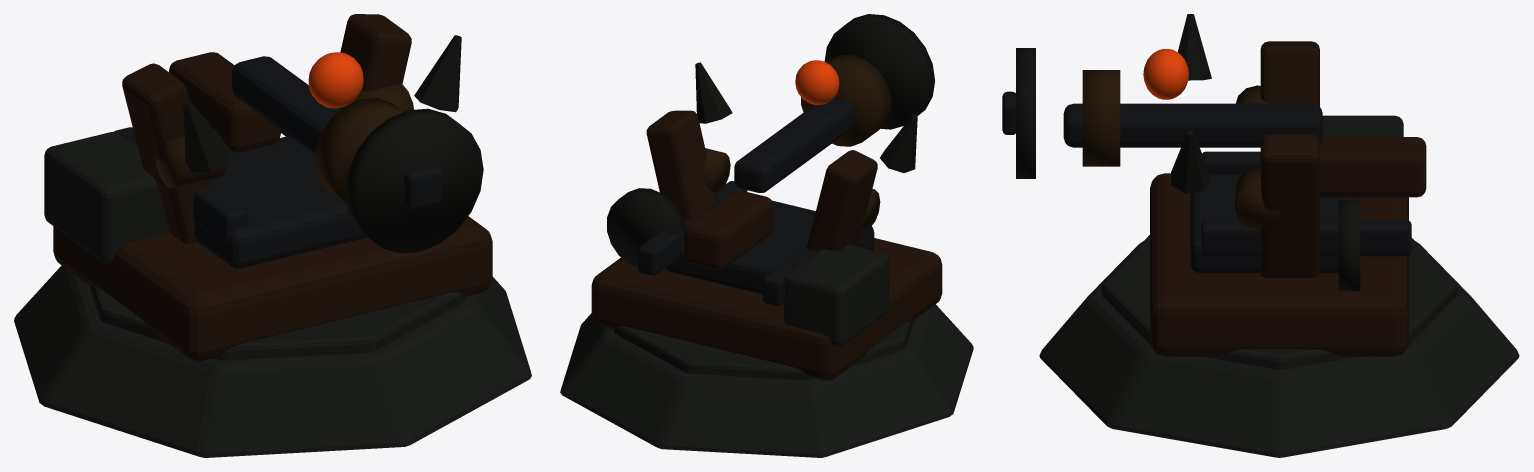
File: TowerBounce3.obj
3 renders of one model, left to right at view 1: azimuth 30°, elevation 25°; view 2: azimuth 150°, elevation 25°; view 3: azimuth 270°, elevation 25°, orthographic. The views are drawn at different scales.
Parts seen in each view (by area): view 1: cut_stone_socket_lower_course, heavy_oak_table, throwing_disc, iron_swivel, stone_ammunition_chest, cut_stone_socket_upper_course, oak_throwing_cheek, counterweight_beam, iron_throw_arm, bronze_sling_drum, oak_throwing_cheek.001, amber_trajectory_lens (+6 smaller); view 2: cut_stone_socket_lower_course, heavy_oak_table, stone_ammunition_chest, throwing_disc, iron_throw_arm, oak_throwing_cheek.001, cut_stone_socket_upper_course, counterweight_beam, iron_swivel, oak_throwing_cheek, reserve_disc, bronze_sling_drum (+7 smaller); view 3: cut_stone_socket_lower_course, heavy_oak_table, iron_throw_arm, oak_throwing_cheek.001, cut_stone_socket_upper_course, counterweight_beam, iron_stabiliser.001, iron_swivel, bronze_sling_drum, oak_throwing_cheek, throwing_disc, reserve_disc (+7 smaller).
Part boxes in pixels (x1,y1,x2,y2): cut_stone_socket_lower_course: [14, 265, 531, 457]; heavy_oak_table: [53, 216, 492, 360]; throwing_disc: [345, 108, 483, 253]; iron_swivel: [195, 136, 367, 268]; stone_ammunition_chest: [44, 132, 169, 263]; cut_stone_socket_upper_course: [89, 286, 464, 360]; oak_throwing_cheek: [122, 63, 210, 243]; counterweight_beam: [169, 52, 280, 152]; iron_throw_arm: [232, 56, 341, 154]; bronze_sling_drum: [315, 98, 403, 203]; oak_throwing_cheek.001: [340, 14, 411, 108]; amber_trajectory_lens: [308, 52, 363, 108]; cut_stone_socket_lower_course: [560, 304, 973, 457]; heavy_oak_table: [591, 238, 942, 380]; stone_ammunition_chest: [784, 244, 889, 346]; throwing_disc: [824, 14, 934, 129]; iron_throw_arm: [734, 98, 854, 192]; oak_throwing_cheek.001: [646, 110, 717, 220]; cut_stone_socket_upper_course: [613, 320, 913, 379]; counterweight_beam: [684, 190, 773, 270]; iron_swivel: [665, 200, 874, 294]; oak_throwing_cheek: [806, 150, 877, 251]; reserve_disc: [607, 188, 685, 266]; bronze_sling_drum: [801, 54, 891, 146]; cut_stone_socket_lower_course: [1039, 241, 1519, 457]; heavy_oak_table: [1150, 173, 1408, 356]; iron_throw_arm: [1063, 103, 1322, 147]; oak_throwing_cheek.001: [1260, 134, 1319, 277]; cut_stone_socket_upper_course: [1101, 235, 1457, 369]; counterweight_beam: [1320, 137, 1426, 197]; iron_stabiliser.001: [1201, 220, 1411, 256]; iron_swivel: [1190, 174, 1357, 272]; bronze_sling_drum: [1082, 70, 1120, 166]; oak_throwing_cheek: [1260, 41, 1319, 106]; throwing_disc: [1016, 48, 1035, 178]; reserve_disc: [1338, 200, 1360, 291].
Size of the model in its own units: 1.78 by 1.25 by 1.92.
